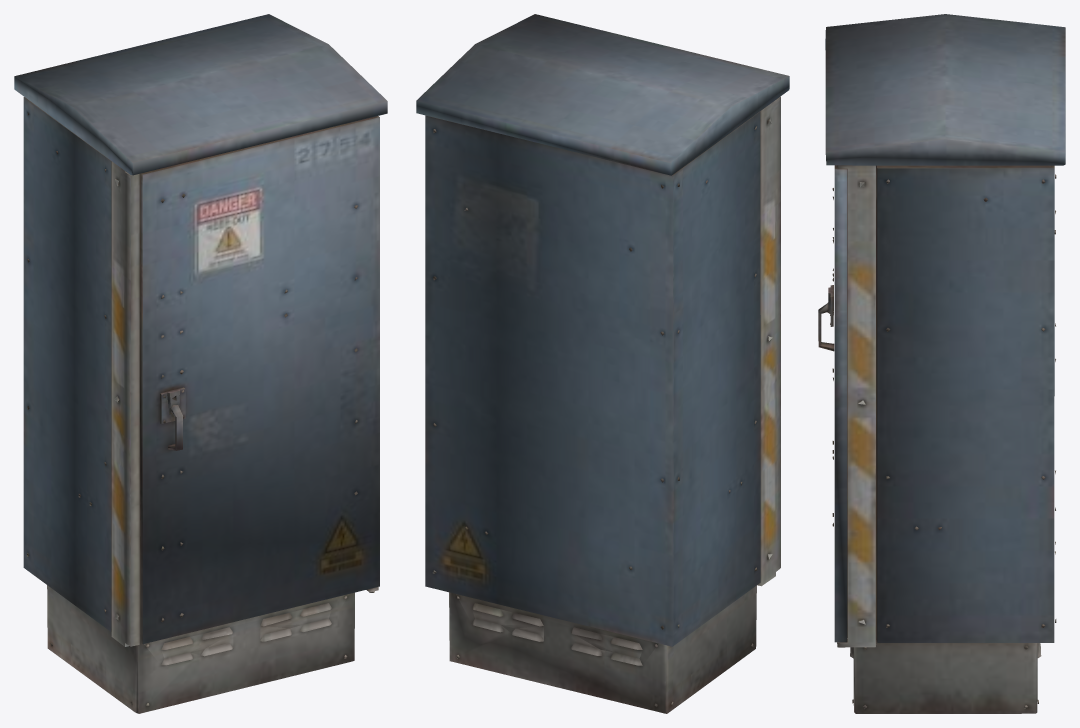
File: utility_box_01.glb
The picture shows the model from 3 angles, left to right: view 1: azimuth 30°, elevation 25°; view 2: azimuth 150°, elevation 25°; view 3: azimuth 270°, elevation 25°; orthographic projection.
Visible parts, largest first — view 1: utility_box_01; view 2: utility_box_01; view 3: utility_box_01.
Part boxes in pixels (x1,y1,x2,y2): utility_box_01: (14,14,387,713); utility_box_01: (416,14,789,713); utility_box_01: (818,14,1065,713).
Size of the model in its own units: 0.5177 by 1.12 by 0.4302.
Materials: 1 (1 with a texture image).
